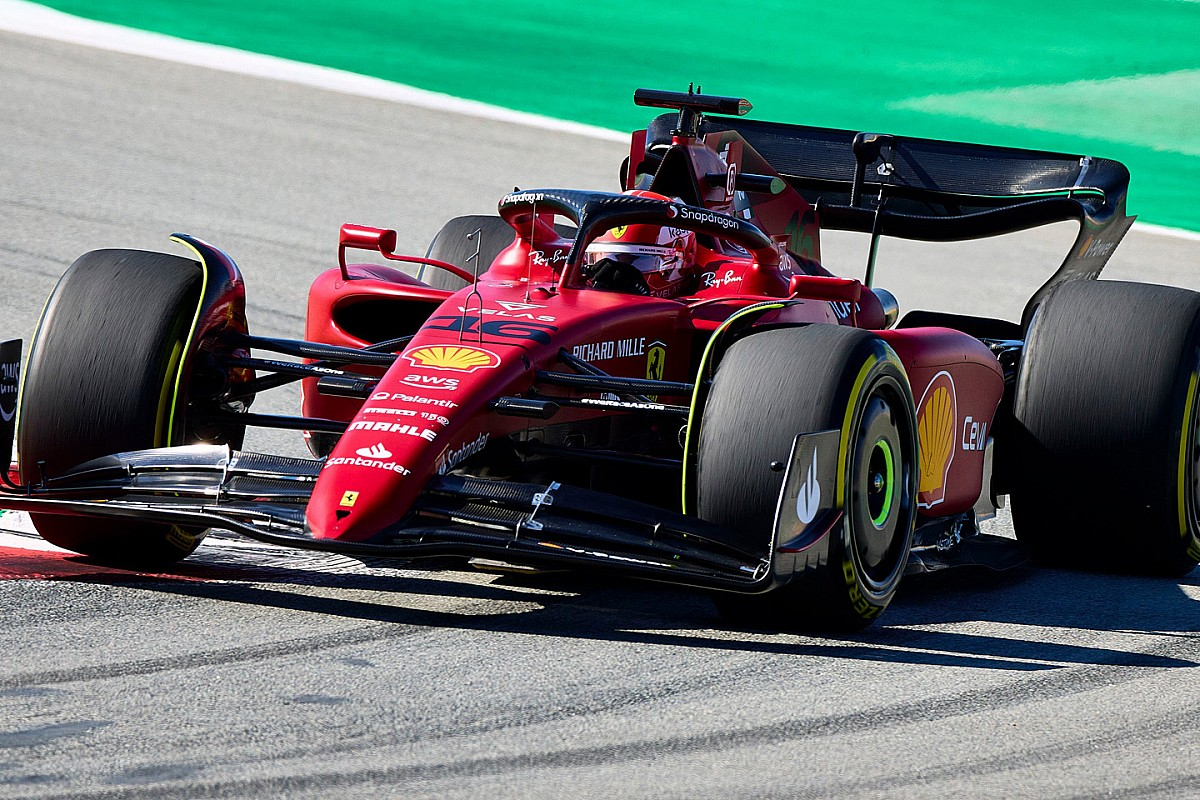Formule 1: (2, 86, 1200, 623)
